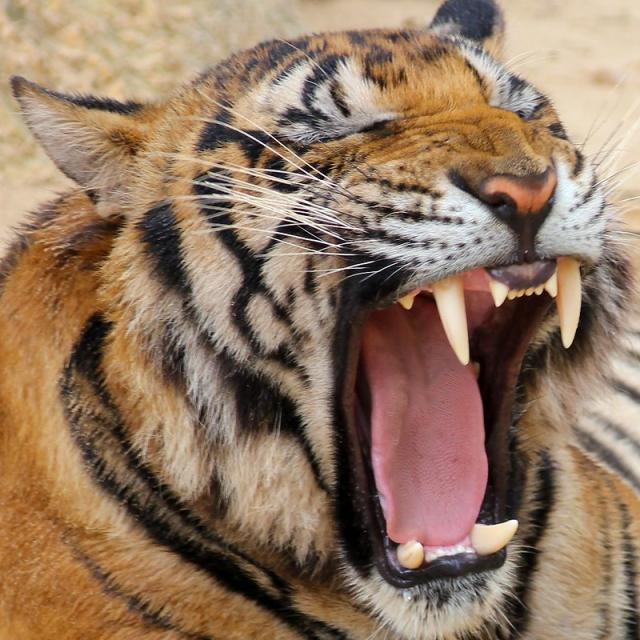Tiger: (0, 16, 638, 639)
